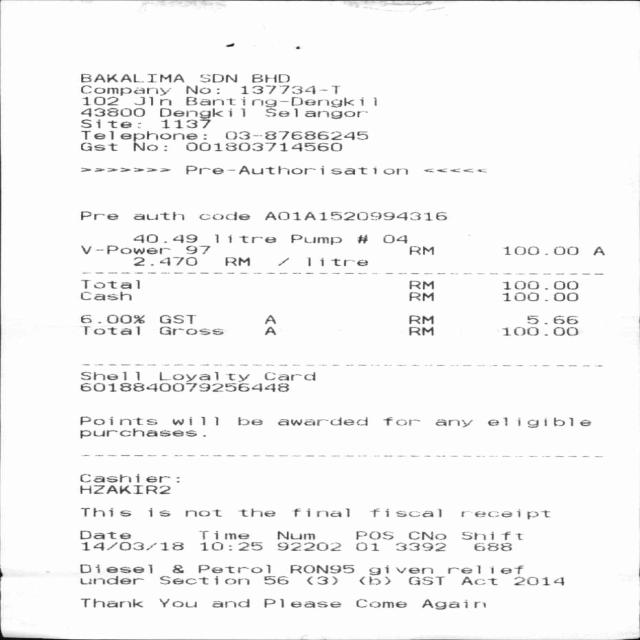text: (184, 165, 407, 175), (184, 96, 378, 107), (79, 382, 288, 392), (264, 211, 446, 221), (184, 142, 340, 152), (80, 130, 206, 142), (225, 130, 366, 140), (264, 107, 366, 119), (487, 417, 590, 428), (459, 508, 549, 520), (80, 73, 184, 83), (81, 541, 183, 551), (240, 85, 340, 95), (80, 85, 170, 96), (79, 473, 178, 483), (158, 108, 244, 119), (80, 428, 198, 436), (158, 371, 243, 382), (80, 244, 169, 254), (80, 484, 169, 494), (159, 575, 248, 585), (277, 417, 367, 426), (262, 598, 340, 608), (368, 564, 432, 576), (421, 598, 485, 610), (501, 292, 577, 302), (501, 326, 577, 336), (502, 280, 576, 290), (198, 564, 269, 574), (80, 416, 156, 425), (447, 565, 523, 574), (502, 246, 576, 255), (78, 564, 151, 573), (288, 564, 353, 574), (80, 314, 144, 324), (132, 256, 195, 266), (370, 508, 440, 517), (277, 542, 340, 552), (80, 575, 142, 585), (80, 598, 142, 608), (80, 118, 140, 128), (80, 279, 138, 289), (80, 108, 144, 117), (158, 326, 222, 335), (289, 234, 341, 245), (82, 325, 139, 335), (459, 531, 522, 540), (198, 542, 261, 551), (134, 234, 196, 243), (213, 234, 274, 243), (307, 257, 367, 266), (80, 371, 138, 380), (291, 508, 348, 517), (80, 290, 130, 300), (80, 507, 130, 517), (80, 530, 130, 540), (198, 530, 248, 540), (395, 542, 445, 552), (160, 118, 209, 128), (197, 211, 249, 220), (264, 372, 316, 381), (512, 576, 563, 585), (356, 599, 405, 608), (171, 416, 217, 425), (526, 316, 577, 324), (132, 212, 182, 220), (276, 530, 314, 540), (158, 598, 196, 608), (355, 530, 392, 540), (211, 598, 248, 608), (252, 73, 288, 83), (81, 96, 117, 106), (159, 314, 195, 324), (474, 542, 510, 552), (200, 73, 235, 83), (407, 531, 445, 540), (184, 85, 218, 95), (132, 141, 166, 151), (80, 211, 117, 220), (382, 417, 419, 426), (237, 508, 274, 517), (407, 576, 444, 585), (134, 96, 170, 105), (80, 142, 116, 151), (185, 508, 220, 517), (305, 575, 336, 585), (434, 419, 471, 427), (460, 577, 497, 585), (358, 576, 389, 585), (236, 416, 261, 426), (262, 575, 287, 585), (382, 234, 406, 244), (224, 256, 248, 266), (408, 280, 432, 290), (408, 291, 432, 301), (408, 314, 432, 324), (408, 326, 432, 336), (184, 245, 209, 254), (408, 246, 432, 255), (148, 507, 169, 517), (355, 542, 378, 551), (592, 246, 604, 256), (171, 564, 183, 573), (356, 234, 366, 244), (264, 314, 274, 324), (277, 257, 288, 266), (264, 327, 274, 335)
